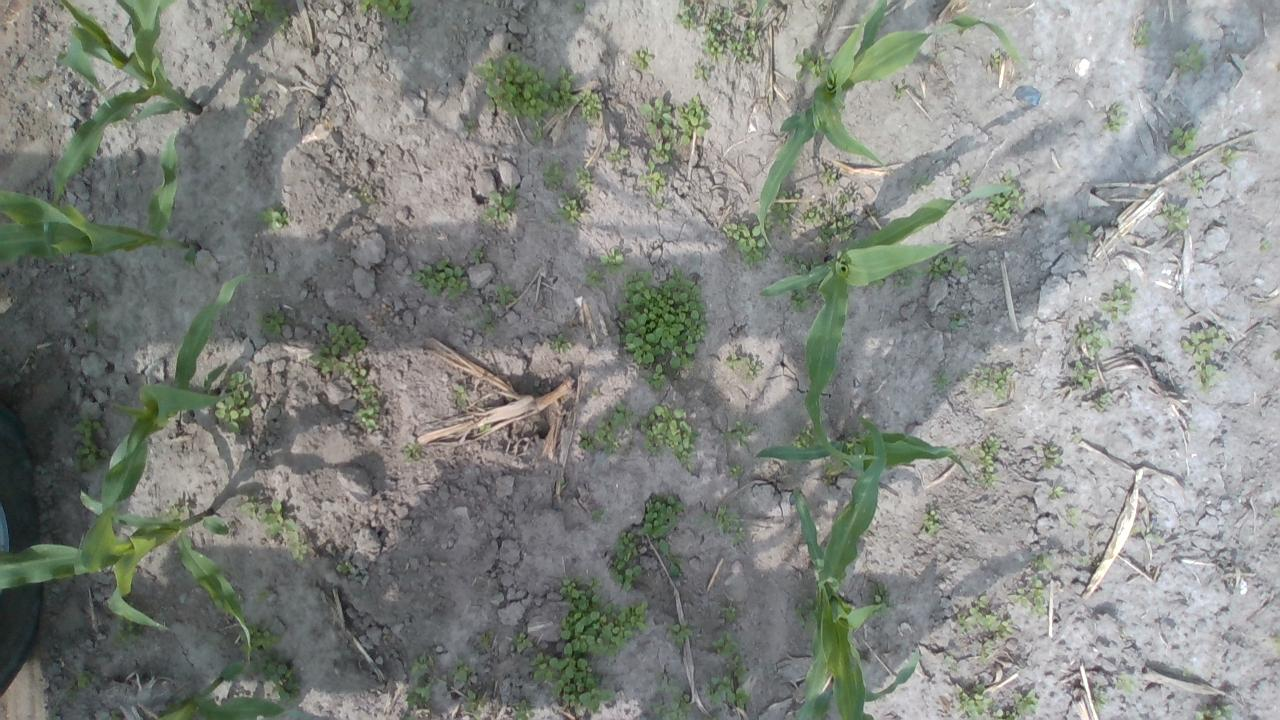Maize: (756, 186, 1010, 464), (758, 2, 1020, 244), (71, 270, 272, 577), (0, 488, 254, 660), (792, 417, 919, 716), (48, 0, 204, 198), (0, 129, 198, 268), (752, 428, 971, 480), (146, 656, 290, 720)
Weeds: (614, 263, 706, 393), (558, 574, 648, 659), (473, 52, 578, 119), (528, 649, 615, 718), (637, 404, 699, 470), (220, 660, 302, 706), (799, 190, 857, 246), (71, 412, 112, 476), (346, 362, 380, 433), (416, 258, 472, 300), (636, 492, 686, 538), (216, 371, 252, 434), (606, 531, 642, 592), (592, 402, 634, 454), (984, 170, 1025, 223), (723, 222, 769, 266), (960, 366, 1014, 402), (711, 631, 748, 681), (638, 98, 678, 144), (318, 322, 368, 358), (1180, 324, 1226, 362), (702, 7, 732, 62), (1098, 280, 1135, 323), (765, 191, 801, 235), (708, 676, 751, 712), (236, 623, 281, 657), (678, 95, 708, 145), (358, 0, 413, 27), (1073, 320, 1111, 359), (259, 500, 297, 538), (696, 504, 742, 534), (250, 0, 290, 34), (220, 3, 256, 40), (958, 683, 992, 720), (794, 48, 830, 82), (479, 190, 516, 223), (308, 350, 348, 380), (958, 606, 999, 635), (926, 252, 968, 280), (978, 436, 1002, 485), (1194, 360, 1228, 394), (658, 538, 688, 576), (654, 694, 696, 720), (1173, 43, 1206, 76), (113, 614, 142, 650), (1158, 200, 1190, 232), (1166, 126, 1198, 158), (572, 88, 602, 122), (728, 30, 756, 66), (254, 205, 290, 231), (796, 592, 818, 634), (638, 162, 666, 194), (254, 310, 286, 337), (559, 192, 585, 224), (1072, 361, 1098, 393), (892, 268, 928, 290), (782, 254, 818, 276), (728, 420, 756, 448), (1103, 102, 1128, 132), (674, 0, 698, 30), (1030, 575, 1046, 617), (669, 622, 699, 644), (599, 247, 624, 273), (348, 183, 374, 208), (404, 684, 431, 708), (1194, 703, 1232, 720), (450, 656, 473, 684), (652, 671, 681, 693), (1013, 692, 1038, 717), (286, 530, 305, 562), (792, 426, 818, 449), (791, 285, 812, 312), (1008, 580, 1028, 608), (1071, 219, 1093, 244), (1132, 21, 1154, 46), (574, 166, 594, 192), (1090, 688, 1110, 714), (542, 160, 561, 187), (480, 304, 496, 336), (817, 164, 839, 187), (649, 142, 672, 164), (630, 49, 654, 70), (823, 462, 847, 483), (838, 430, 866, 448), (922, 509, 942, 534), (163, 503, 190, 521), (930, 369, 951, 392), (412, 652, 435, 672), (1044, 445, 1063, 469), (1129, 525, 1154, 543), (871, 583, 889, 608), (239, 94, 260, 115), (496, 283, 516, 304), (719, 606, 740, 626), (512, 699, 532, 720), (1186, 169, 1203, 193), (981, 638, 998, 662), (550, 333, 570, 353), (583, 266, 602, 287), (910, 175, 931, 194), (1032, 554, 1054, 572), (1114, 674, 1134, 693), (1220, 146, 1239, 166), (512, 632, 530, 653), (725, 353, 750, 368), (996, 620, 1014, 640), (1095, 390, 1111, 412), (75, 671, 94, 689), (476, 630, 494, 649), (531, 120, 544, 146), (240, 502, 258, 520), (180, 246, 197, 265), (464, 687, 478, 710), (751, 0, 768, 18), (694, 62, 710, 81), (254, 588, 274, 603), (577, 431, 593, 449), (608, 148, 628, 162), (452, 384, 464, 407), (729, 526, 744, 544), (994, 709, 1018, 720), (86, 321, 101, 338), (948, 320, 969, 332), (1066, 508, 1078, 528), (726, 464, 743, 478), (402, 442, 415, 460), (1258, 238, 1271, 256), (974, 594, 988, 610), (470, 247, 482, 265), (65, 688, 78, 703), (336, 561, 352, 573), (1054, 484, 1066, 498), (464, 116, 474, 132), (990, 48, 1000, 64), (749, 362, 760, 376), (867, 278, 882, 288), (1272, 636, 1280, 652), (592, 511, 603, 522), (959, 176, 970, 187), (894, 83, 902, 98), (478, 424, 491, 433), (1271, 505, 1280, 518), (124, 596, 134, 607), (654, 200, 667, 208), (110, 710, 120, 720), (1071, 432, 1080, 443), (1078, 558, 1088, 566), (574, 3, 582, 12), (559, 480, 567, 488), (970, 447, 977, 455)
